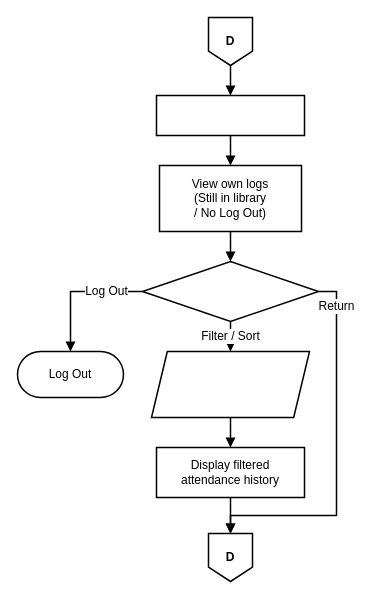
Image size: 372x600. Some labels were removed from this diagram. The shapes that lost their labels are listed below. From the top down, each one's centre as x and y in pixels, then its label:
At pixel 230 115: "Open My Attendance".
At pixel 230 291: "Next action?".
At pixel 230 384: "Select date range or sort order".
